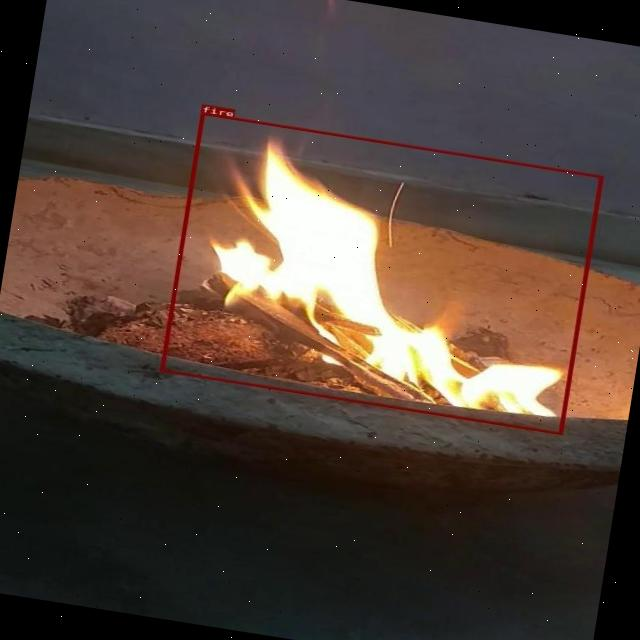fire: (159, 112, 603, 434)
